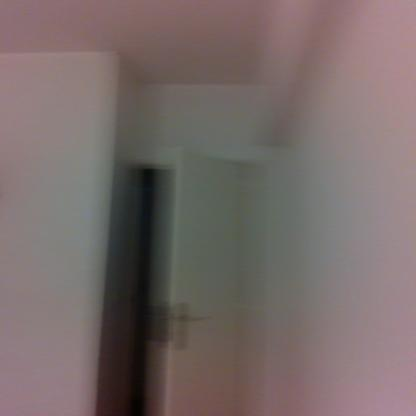semi: (115, 151, 256, 416)
